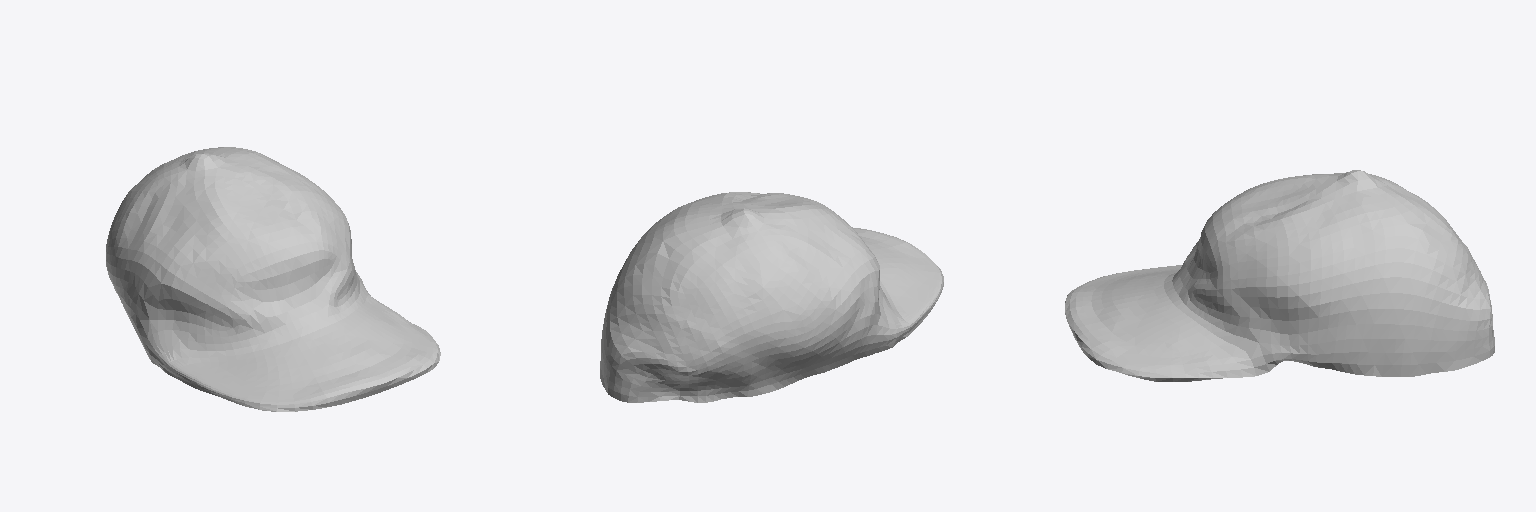
The model's file is Hat.obj.
The picture shows the model from 3 angles: view 1: azimuth 30°, elevation 25°; view 2: azimuth 150°, elevation 25°; view 3: azimuth 270°, elevation 25°; orthographic projection.
Visible parts, largest first — view 1: Hat_LP; view 2: Hat_LP; view 3: Hat_LP.
Boxes of the visible parts, x1,y1,x2,y2 form: Hat_LP: [106, 147, 440, 411]; Hat_LP: [600, 192, 943, 402]; Hat_LP: [1065, 170, 1494, 381].
Bounding box in the file's own units: 0.9528 × 0.6023 × 1.52.